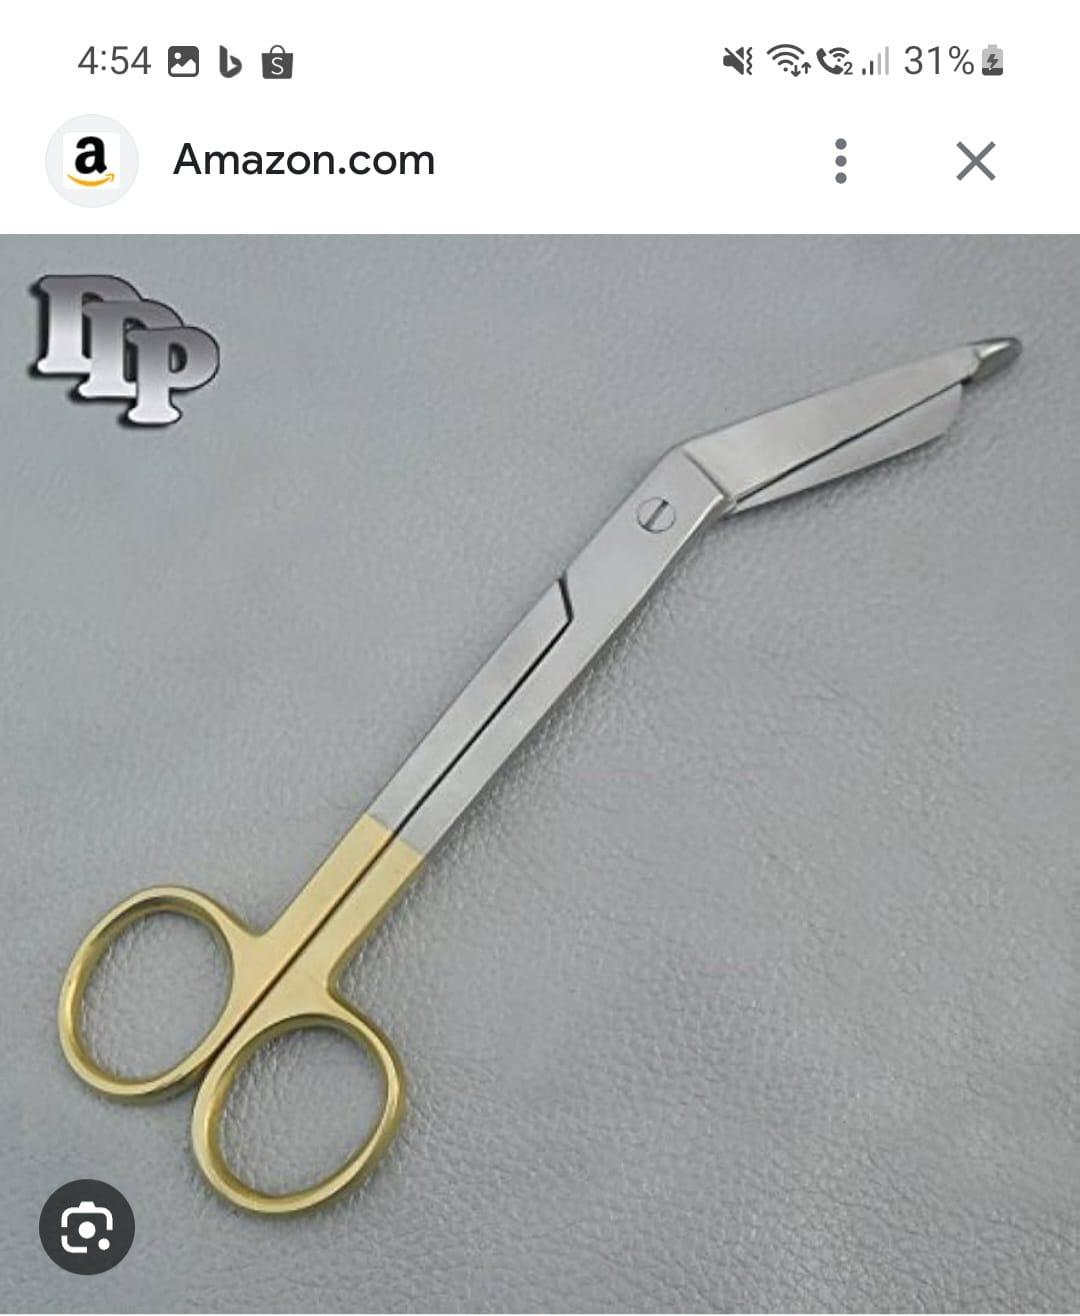Bandage Sciccors: (52, 326, 1026, 1220)
